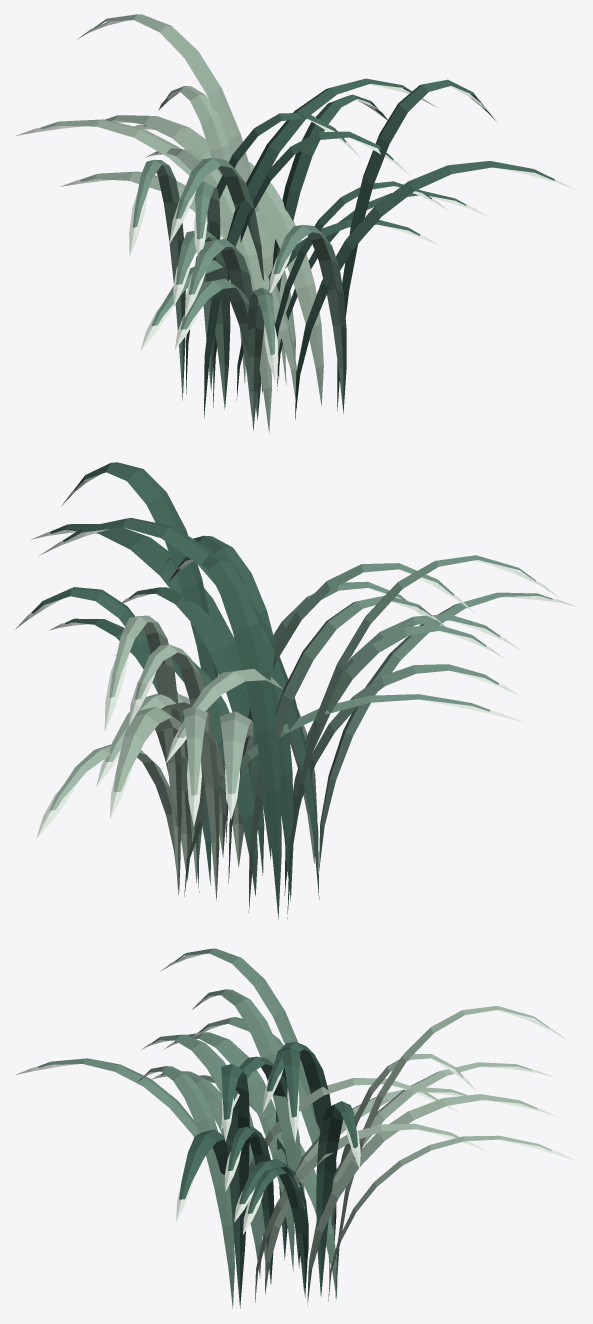
The model's file is FROST_GRASS.hi.glb.
3 renders of one model, top to bottom at view 1: azimuth 30°, elevation 25°; view 2: azimuth 150°, elevation 25°; view 3: azimuth 270°, elevation 25°, orthographic. The views are drawn at different scales.
Parts seen in each view (by area): view 1: FROST_GRASS; view 2: FROST_GRASS; view 3: FROST_GRASS.
Boxes of the visible parts, left/top/right/bottom form: FROST_GRASS: left=16, top=14, right=576, bottom=433; FROST_GRASS: left=15, top=462, right=576, bottom=919; FROST_GRASS: left=14, top=948, right=577, bottom=1308.
Bounding box in the file's own units: 0.5154 × 0.3333 × 0.6084.
Materials: 1 (1 with a texture image).
